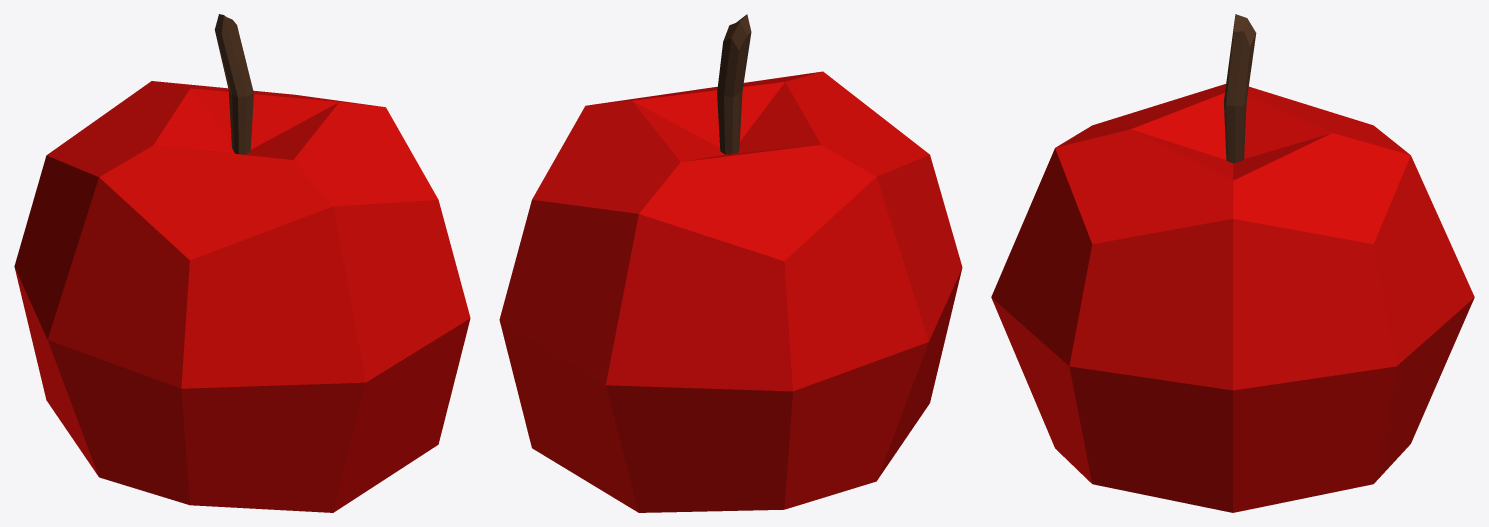
Rendered from red_apple.gltf.
The picture shows the model from 3 angles, left to right: view 1: azimuth 30°, elevation 25°; view 2: azimuth 150°, elevation 25°; view 3: azimuth 270°, elevation 25°; orthographic projection. The views are drawn at different scales.
Parts seen in each view (by area): view 1: Cube.001; view 2: Cube.001; view 3: Cube.001.
Part boxes in pixels (<box>): Cube.001: <box>14,14,470,512</box>; Cube.001: <box>499,14,962,512</box>; Cube.001: <box>991,14,1474,512</box>.
Bounding box in the file's own units: 3.14 × 3.5 × 3.44.
